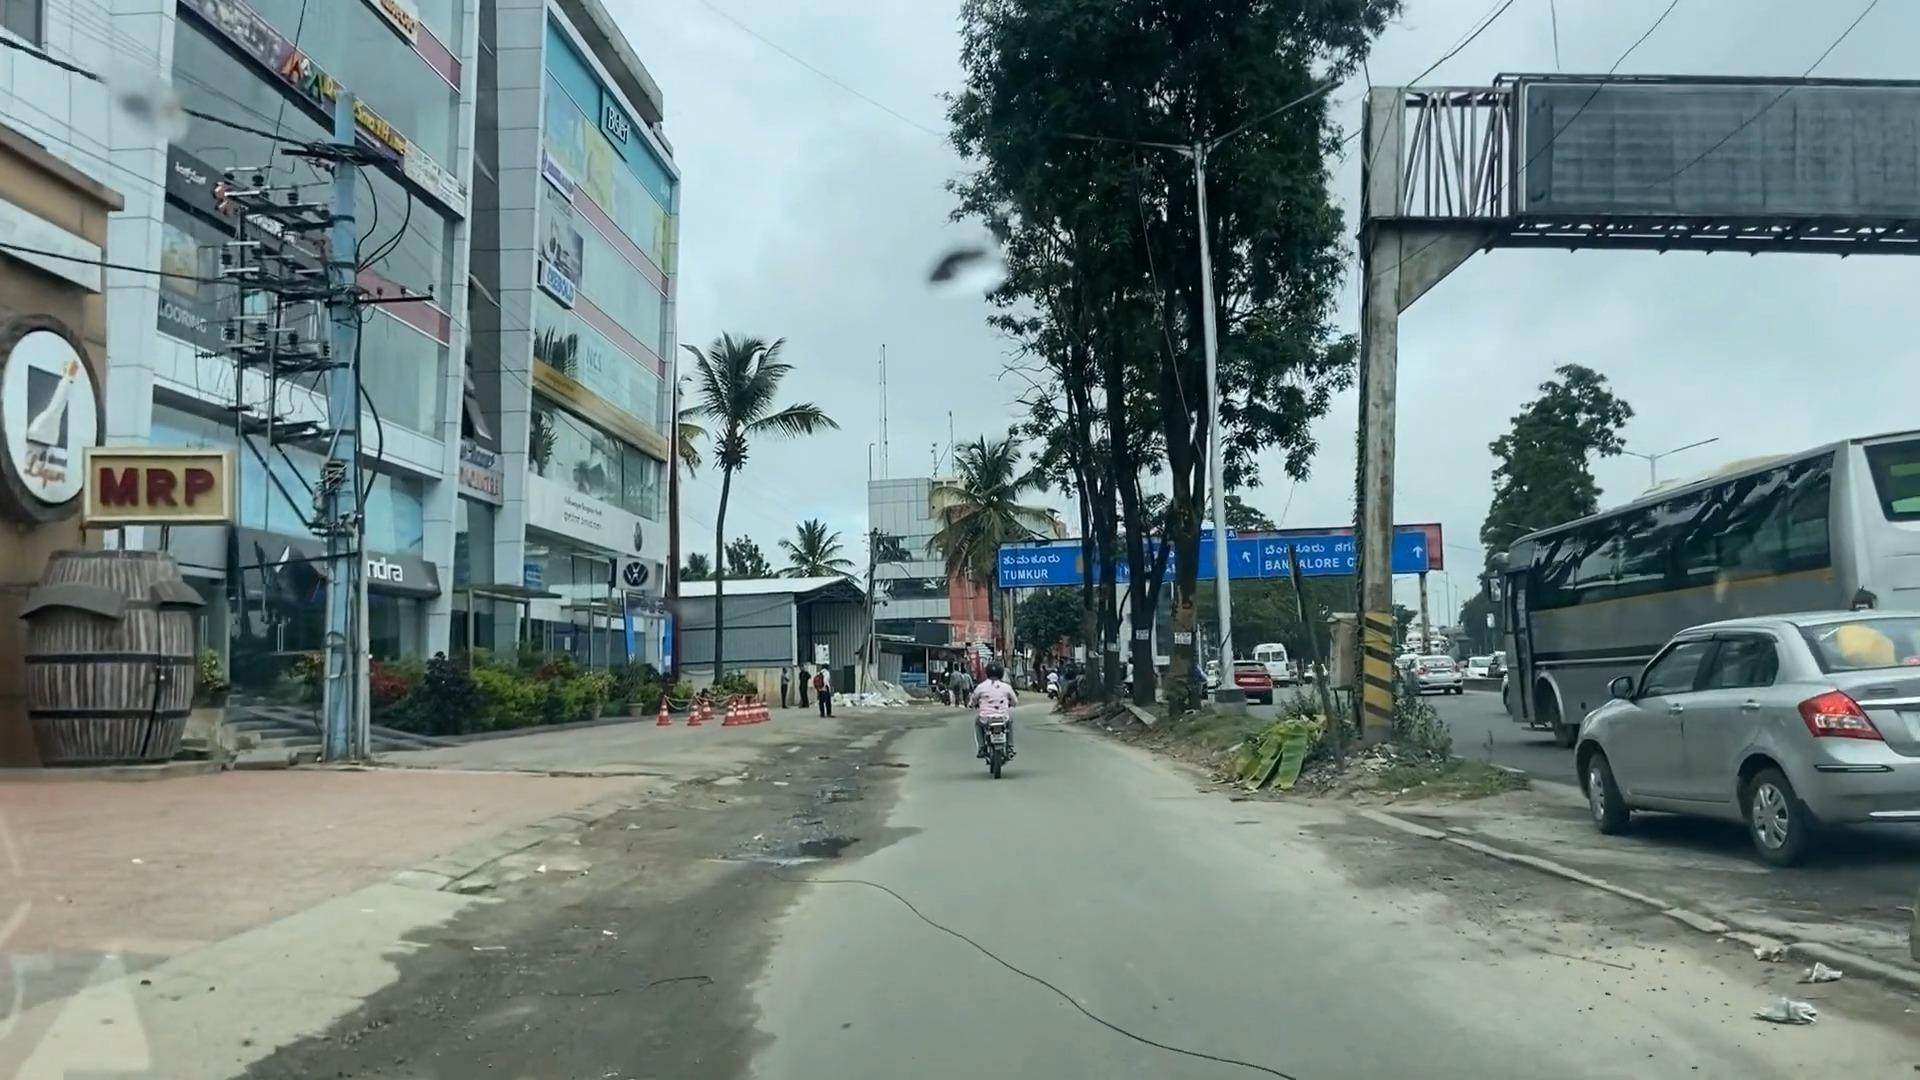RoadDamages: (1370, 844, 1613, 997), (746, 753, 894, 877)
